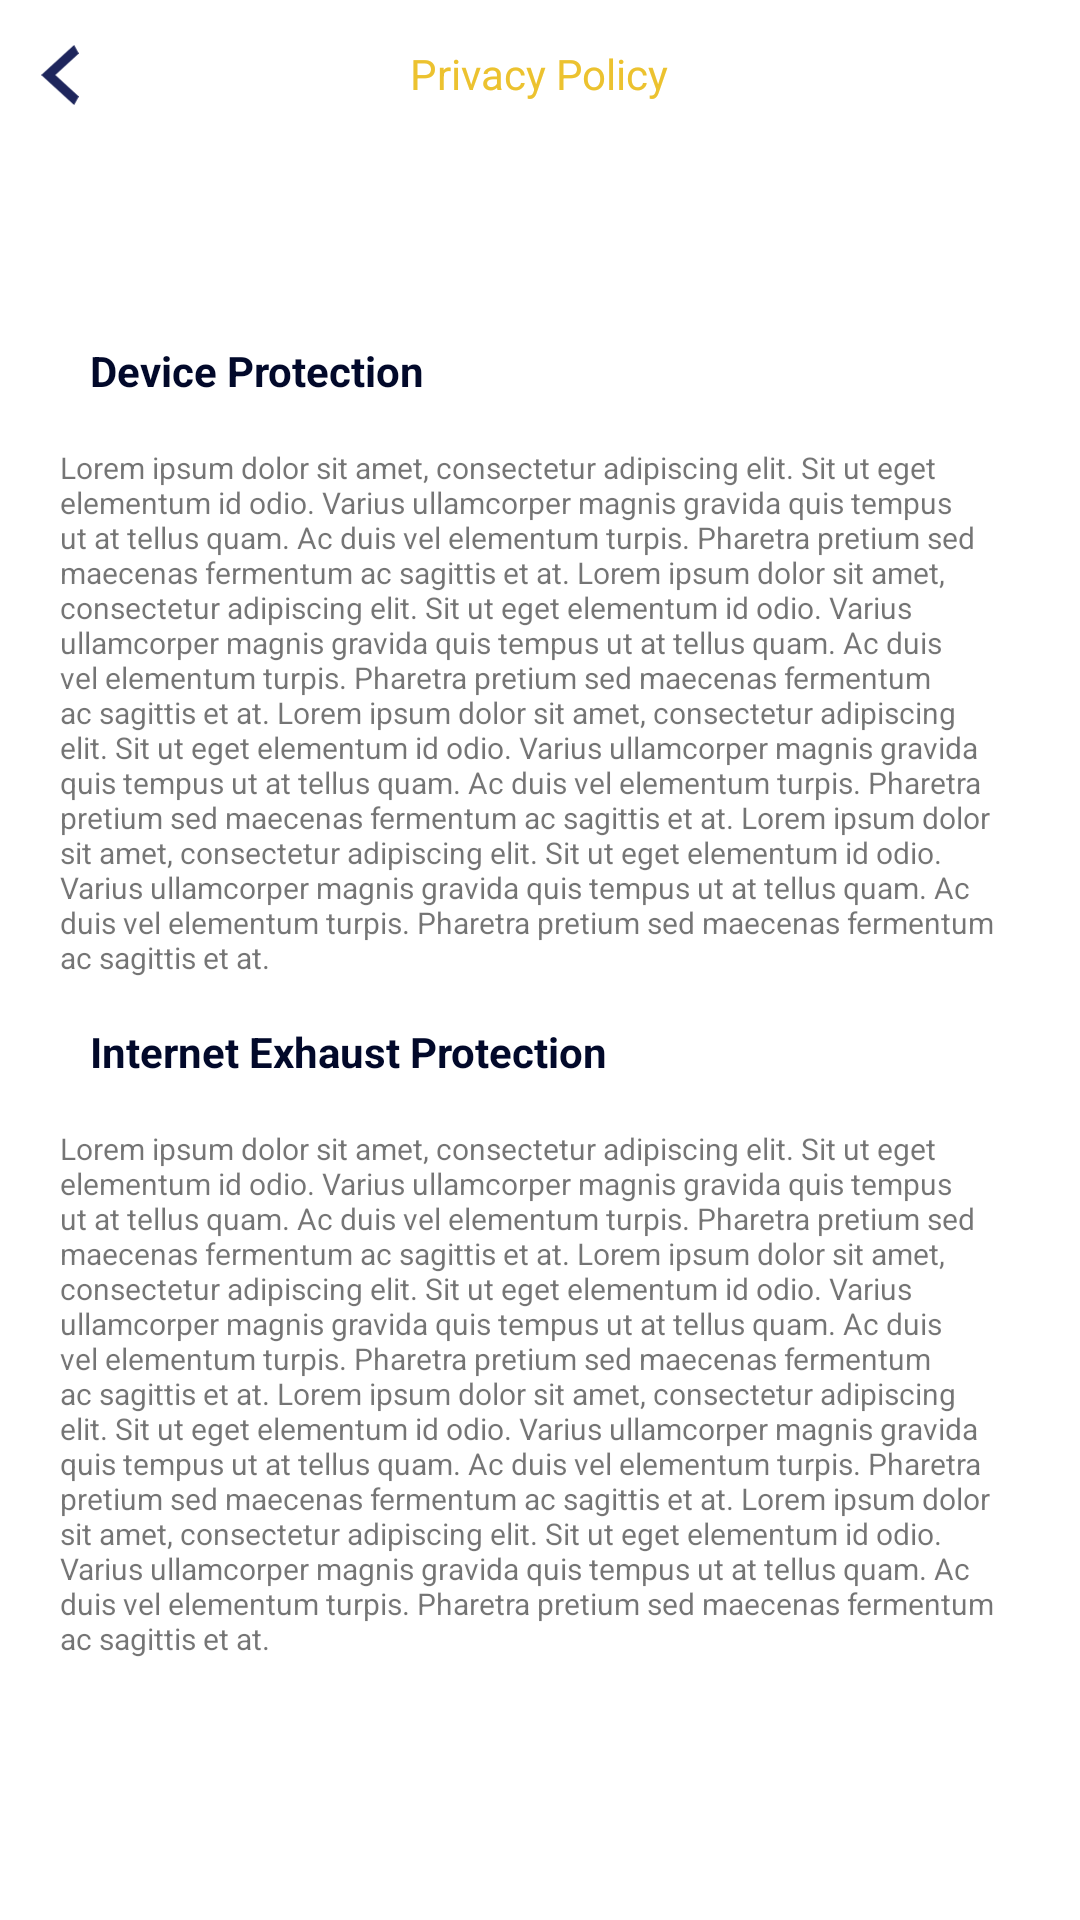

Screen size 1080 x 1920. Icon name, then its center in pixels as (x,y):
back: (60,75)
